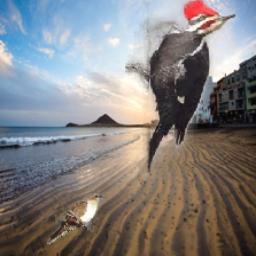Cuckoo: (47, 194, 104, 245)
Woodpecker: (125, 0, 235, 174)
